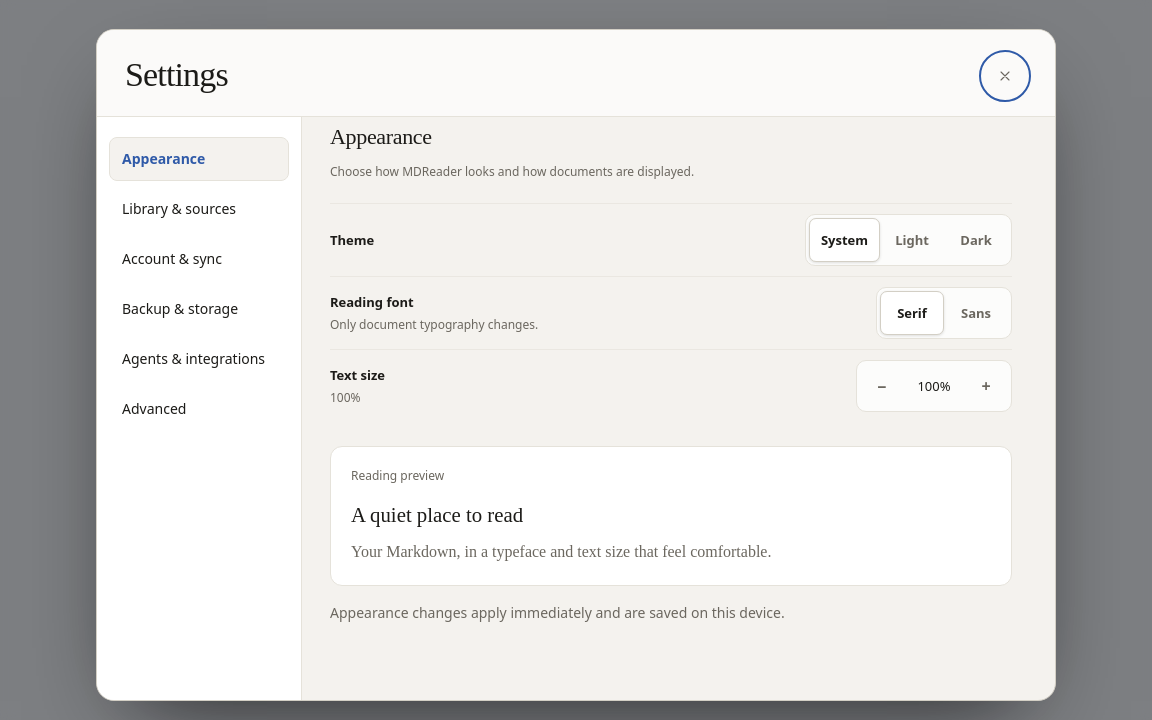
it: Settings sheet › keeps semantic headings and theme choices without decorative product or ordinal markers
The image size is (1152, 720).
Expected: the heading "Settings" is shown, [125, 56, 228, 93]
Expected: the heading "Appearance" is shown, [330, 124, 432, 149]
Click the button "Library & sources": (199, 209) [109, 187, 289, 231]
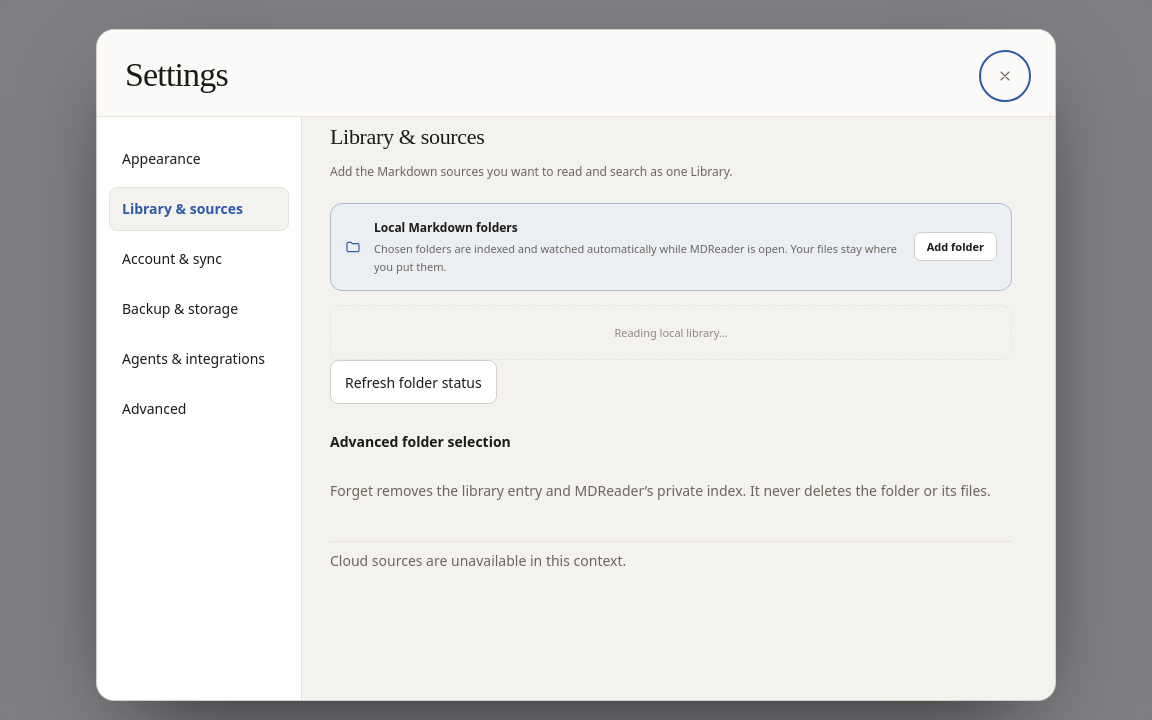
Result: the heading "Library & sources" is shown at [330, 124, 484, 149]
Click the button "Advanced": (199, 409) [109, 387, 289, 431]
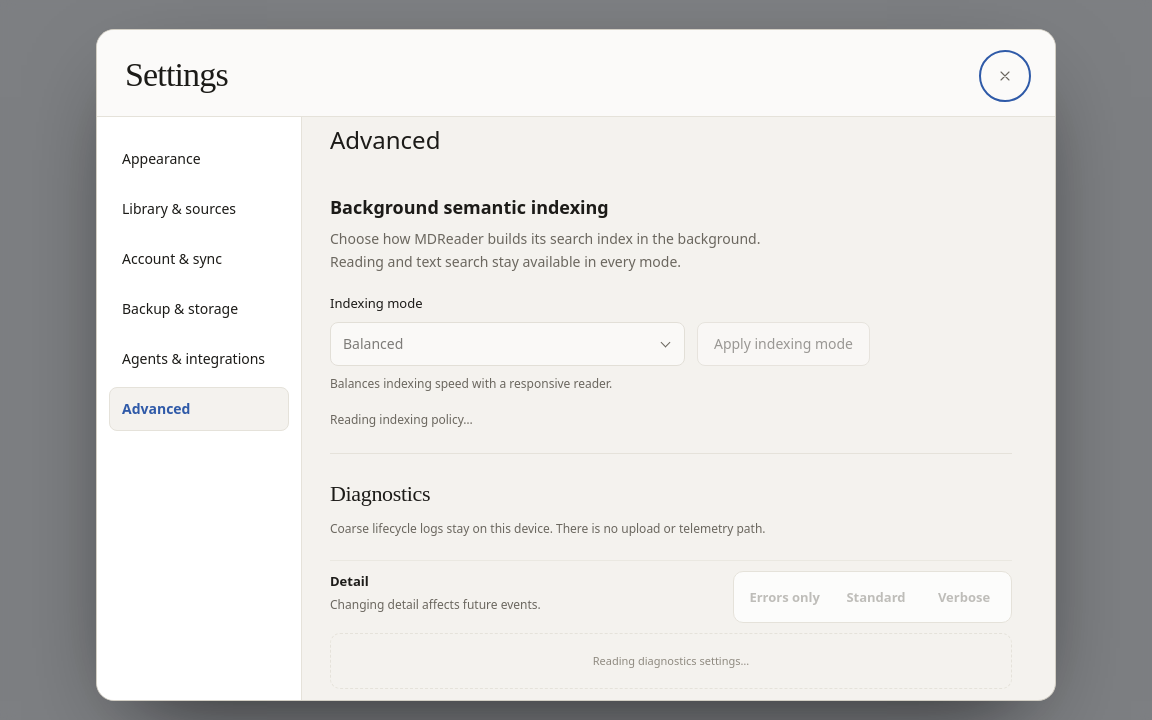
Result: the heading "Diagnostics" is shown at [330, 481, 430, 506]
Click the button "Appearance": (199, 159) [109, 137, 289, 181]
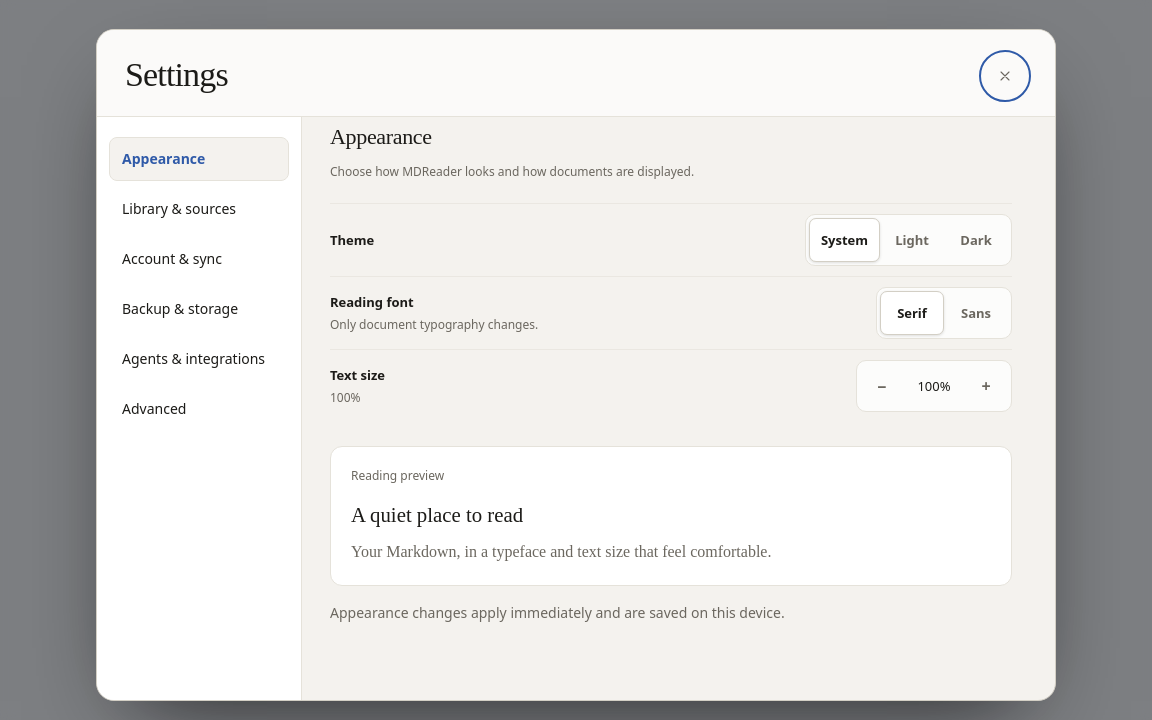
Result: the button "System" is shown at [809, 218, 880, 262]
Result: the button "Light" is shown at [880, 218, 944, 262]
Result: the button "Dark" is shown at [944, 218, 1008, 262]
